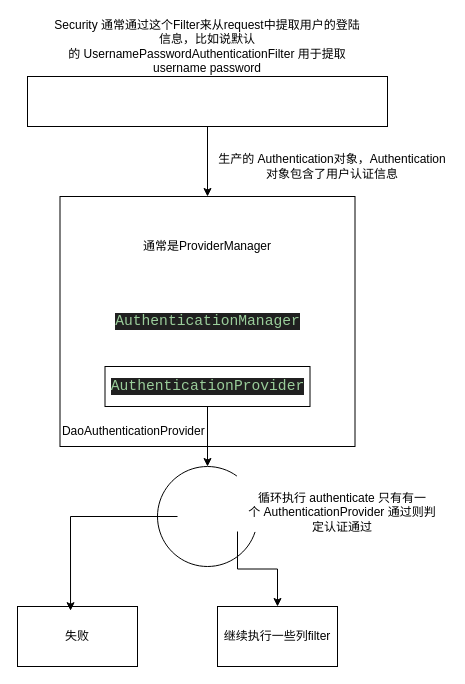
Some shapes in this 465 by 684 pixel diagram are drawn without their labels. Each missing label, with the centre of its shape:
AbstractAuthenticationProcessingFilter: point 207,101
authenticate方法: point 207,516
